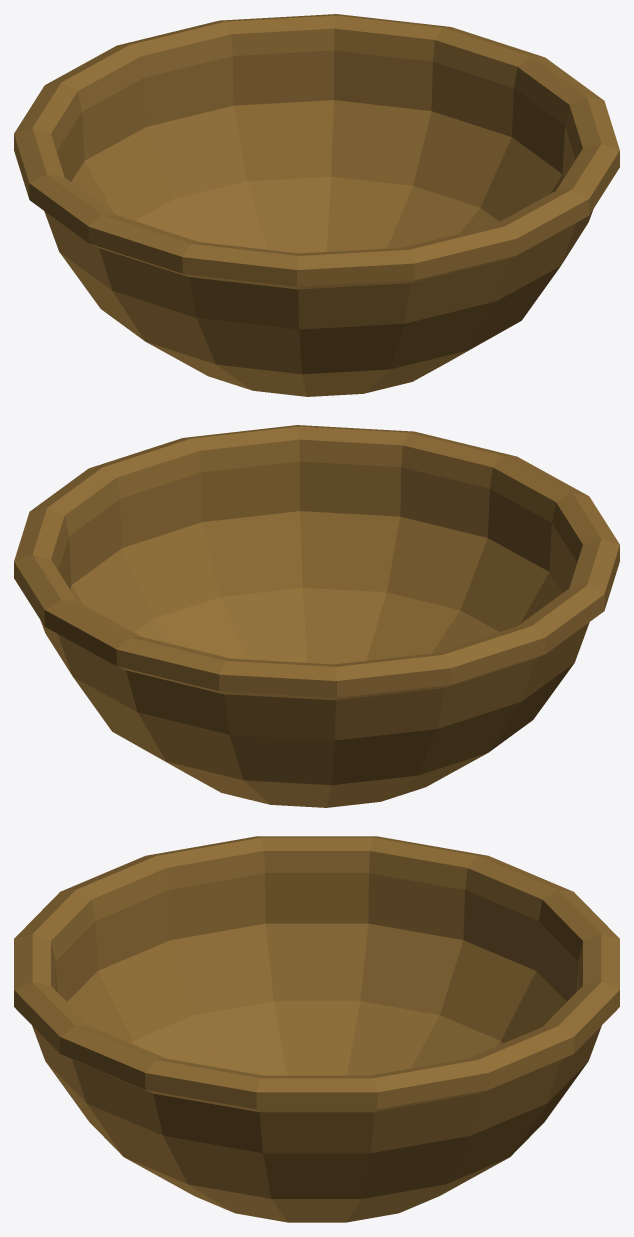
The model's file is SM_Vendor_Basket_02.fbx.
The picture shows the model from 3 angles, top to bottom: view 1: azimuth 30°, elevation 25°; view 2: azimuth 150°, elevation 25°; view 3: azimuth 270°, elevation 25°; orthographic projection.
Parts seen in each view (by area): view 1: SM_Vendor_Basket_02; view 2: SM_Vendor_Basket_02; view 3: SM_Vendor_Basket_02.
Part boxes in pixels (box(x1,y1,x2,y2)): SM_Vendor_Basket_02: box(14, 14, 619, 396); SM_Vendor_Basket_02: box(14, 425, 619, 807); SM_Vendor_Basket_02: box(14, 836, 619, 1222).
Bounding box in the file's own units: 0.5139 × 0.22 × 0.5139.
Materials: 1 (1 with a texture image).
